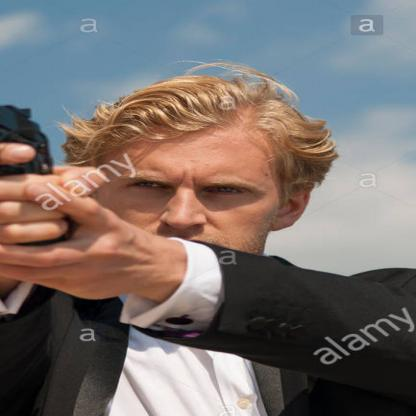gun: (0, 51, 86, 236)
